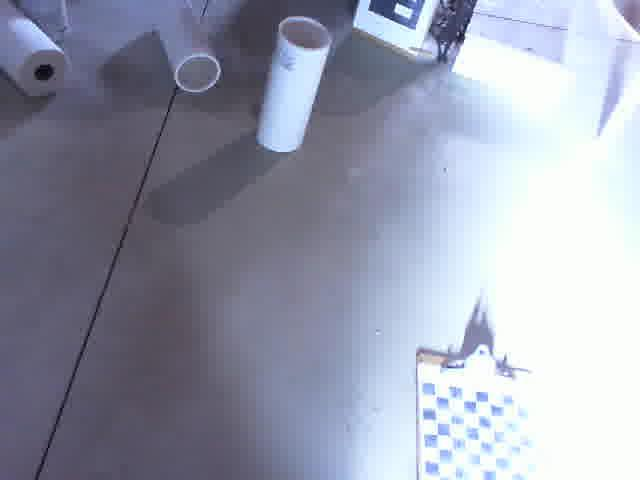coral: (253, 12, 334, 153), (452, 25, 570, 110), (146, 0, 225, 93)
